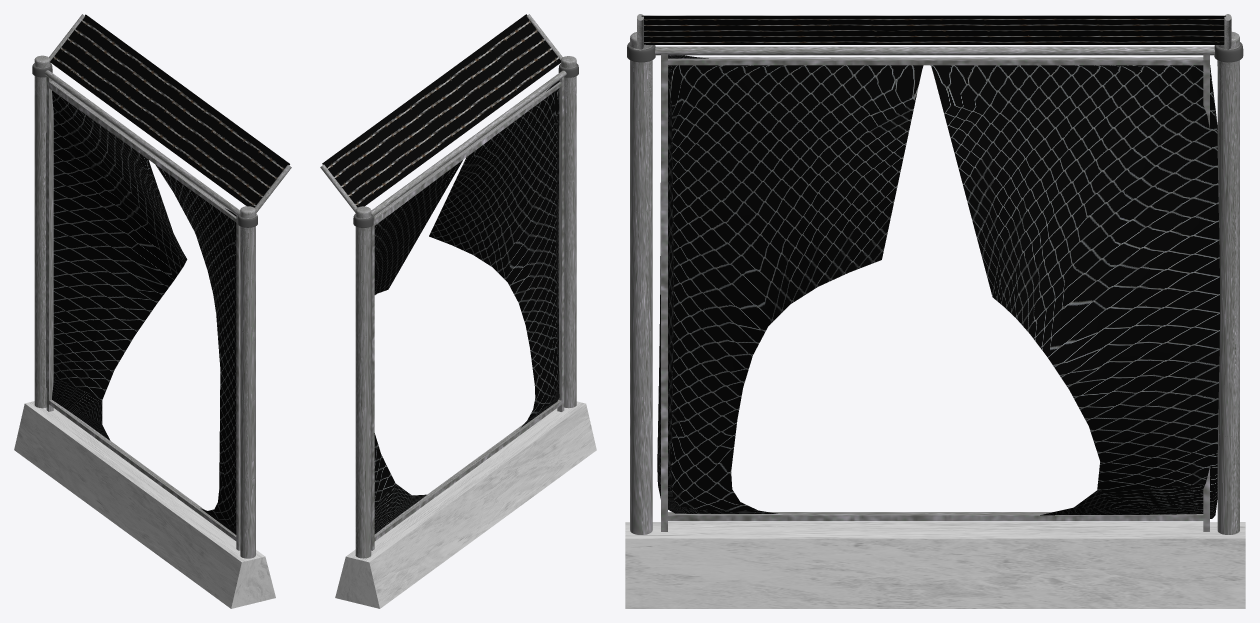
File: brocken barrier.fbx
3 views of the same model, side by side, from view 1: azimuth 30°, elevation 25°; view 2: azimuth 150°, elevation 25°; view 3: azimuth 270°, elevation 25° (orthographic). The views are drawn at different scales.
Visible parts, largest first — view 1: pCube2, pCube1, pCube4, pCube3, pCylinder1, pCylinder4, pCylinder3; view 2: pCube2, pCube1, pCube4, pCube3, pCylinder4, pCylinder1, pCylinder3; view 3: pCube2, pCube1, pCube4, pCube3, pCylinder1, pCylinder4, pCylinder3.
Boxes of the visible parts, <box> form: pCube2: <box>46,90,236,534</box>; pCube1: <box>14,401,275,608</box>; pCube4: <box>50,14,289,207</box>; pCube3: <box>46,76,240,550</box>; pCylinder1: <box>237,206,257,558</box>; pCylinder4: <box>32,55,52,408</box>; pCylinder3: <box>44,70,240,215</box>; pCube2: <box>374,80,559,534</box>; pCube1: <box>335,401,596,608</box>; pCube4: <box>322,14,560,207</box>; pCube3: <box>371,77,564,550</box>; pCylinder4: <box>353,206,373,558</box>; pCylinder1: <box>558,56,578,408</box>; pCylinder3: <box>371,70,566,215</box>; pCube2: <box>657,55,1219,518</box>; pCube1: <box>625,522,1245,608</box>; pCube4: <box>641,15,1225,44</box>; pCube3: <box>661,54,1209,531</box>; pCylinder1: <box>627,32,655,534</box>; pCylinder4: <box>1214,32,1243,534</box>; pCylinder3: <box>655,46,1214,55</box>.
Size of the model in its own units: 6.47 by 27.75 by 25.69.
